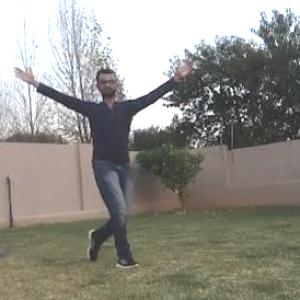takeoff: (1, 73, 149, 266)
